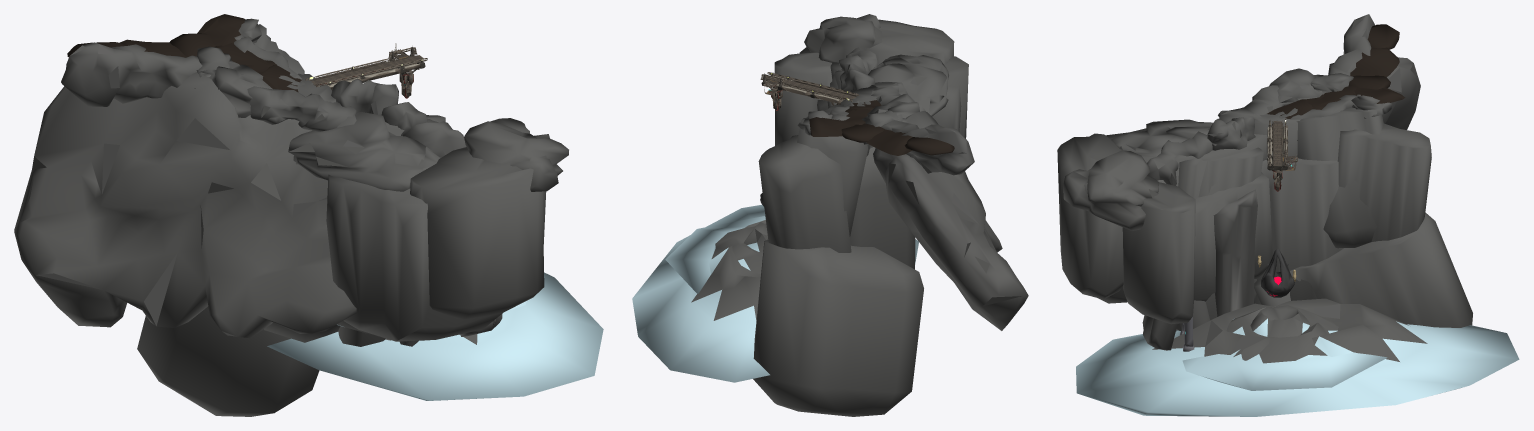
3 renders of one model, left to right at view 1: azimuth 30°, elevation 25°; view 2: azimuth 150°, elevation 25°; view 3: azimuth 270°, elevation 25°, orthographic. The views are drawn at different scales.
Visible parts, largest first — view 1: chunk_q01_low; view 2: chunk_q01_low; view 3: chunk_q01_low.
Boxes of the visible parts, x1,y1,x2,y2 form: chunk_q01_low: (14, 14, 603, 416); chunk_q01_low: (632, 14, 1028, 416); chunk_q01_low: (1057, 14, 1519, 416).
Bounding box in the file's own units: 48.37 × 37.71 × 48.28.
Materials: 4 (3 with a texture image).
